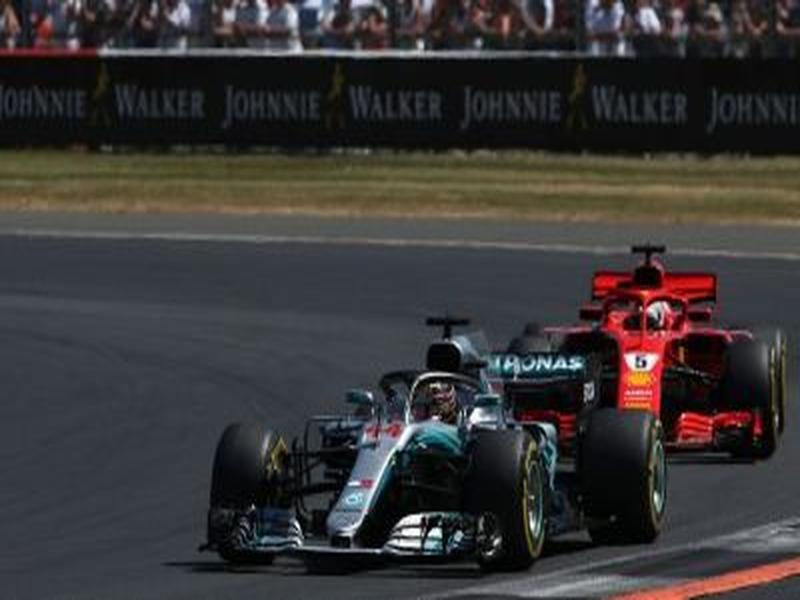f1: (206, 312, 673, 568), (494, 241, 800, 457)
